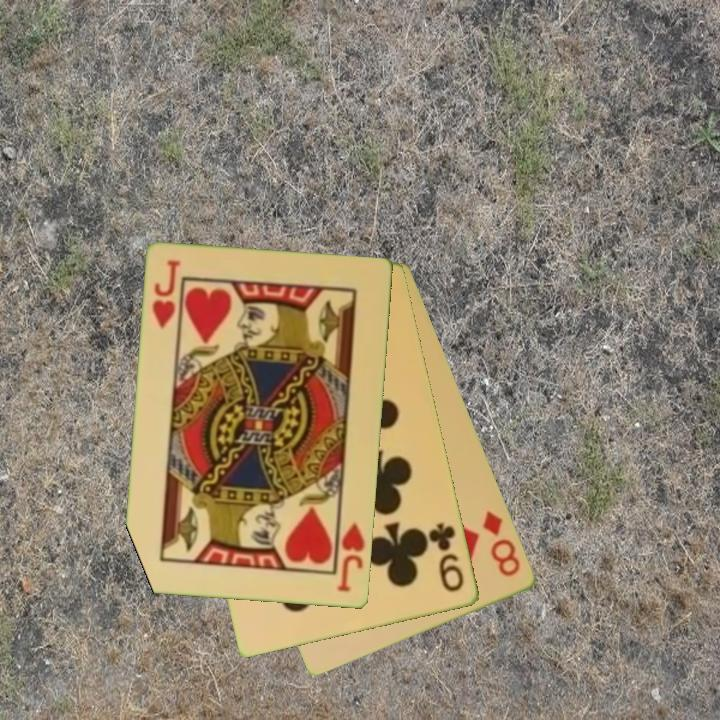8d: (479, 507, 524, 580)
9c: (426, 519, 467, 596)
Jh: (332, 513, 368, 596), (149, 257, 184, 331)
